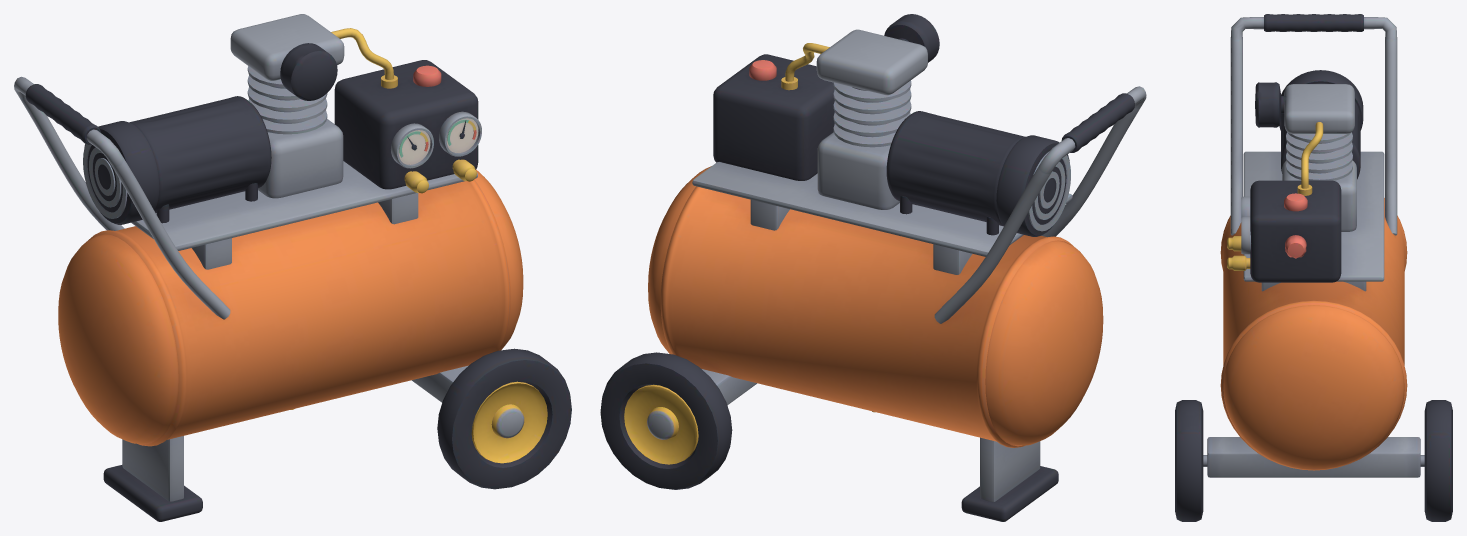
File: air-compressor.fbx
The picture shows the model from 3 angles, left to right: view 1: azimuth 30°, elevation 25°; view 2: azimuth 150°, elevation 25°; view 3: azimuth 270°, elevation 25°; orthographic projection. The views are drawn at different scales.
Visible parts, largest first — view 1: air-compressor_body; view 2: air-compressor_body; view 3: air-compressor_body.
Part boxes in pixels (bbox=[...]): air-compressor_body: bbox=[14, 14, 571, 521]; air-compressor_body: bbox=[600, 14, 1146, 521]; air-compressor_body: bbox=[1175, 14, 1452, 521].
Size of the model in its own units: 0.953 by 0.901 by 0.612.
Materials: 1 (1 with a texture image).
